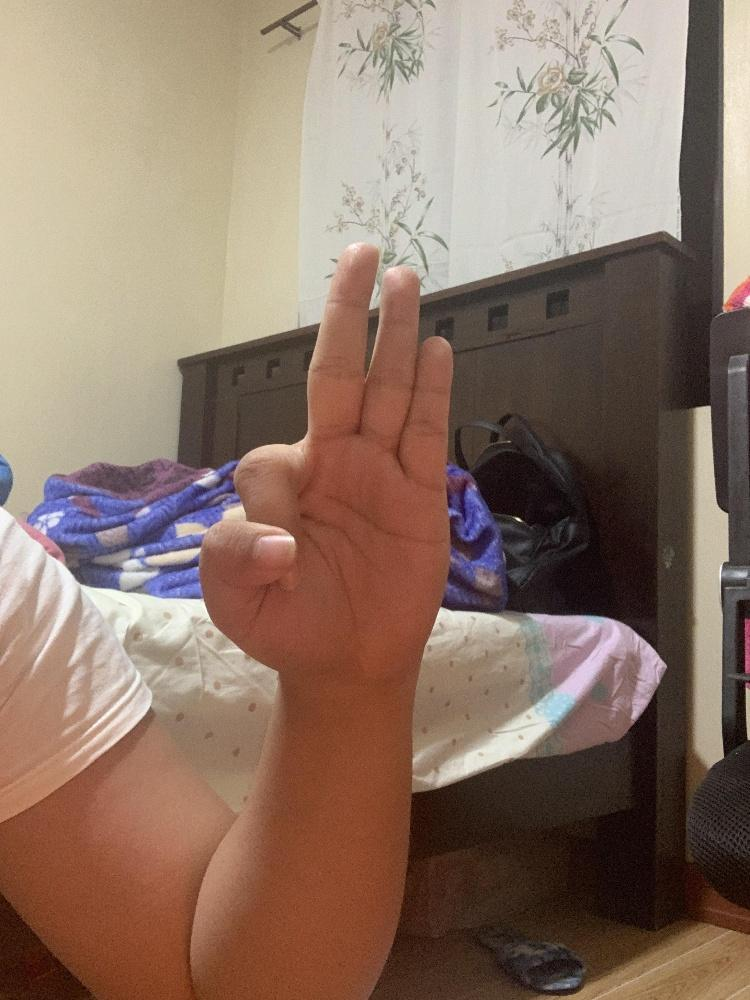f: (198, 240, 455, 677)
